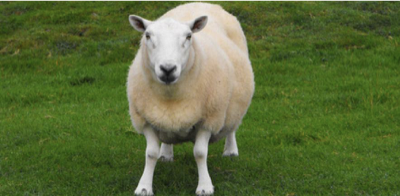koyun: (125, 2, 256, 196)
